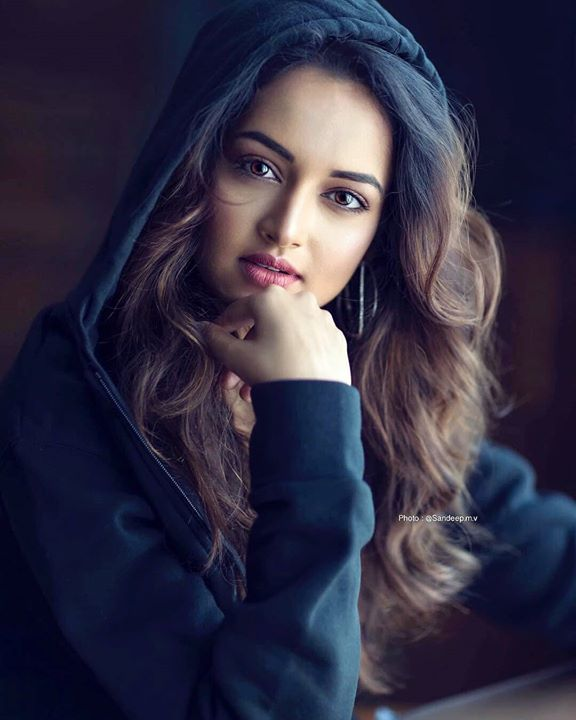GIRL: (195, 41, 406, 329)
